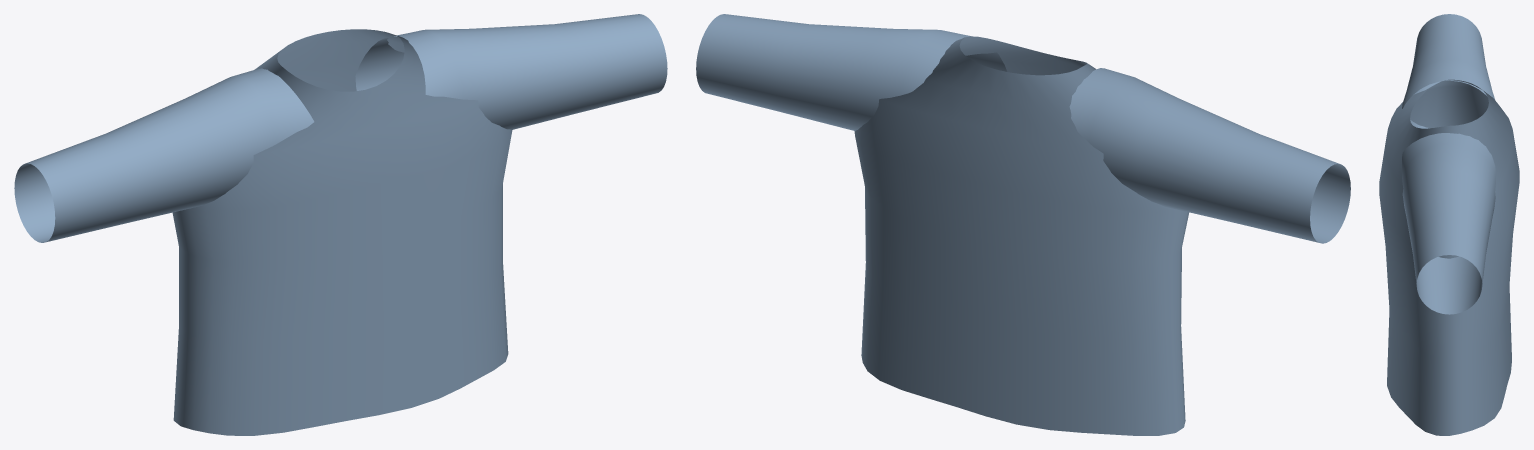
The model's file is denim-jacket.glb.
3 views of the same model, side by side, from view 1: azimuth 30°, elevation 25°; view 2: azimuth 150°, elevation 25°; view 3: azimuth 270°, elevation 25° (orthographic). The views are drawn at different scales.
Parts seen in each view (by area): view 1: Torso, SleeveLeft, SleeveRight; view 2: Torso, SleeveLeft, SleeveRight; view 3: Torso, SleeveRight, SleeveLeft.
Boxes of the visible parts, x1,y1,x2,y2 form: Torso: [172, 29, 512, 435]; SleeveLeft: [14, 68, 314, 242]; SleeveRight: [355, 14, 667, 130]; Torso: [854, 36, 1189, 435]; SleeveLeft: [1069, 68, 1350, 243]; SleeveRight: [696, 14, 1007, 130]; Torso: [1379, 79, 1519, 435]; SleeveRight: [1402, 133, 1495, 314]; SleeveLeft: [1402, 14, 1494, 128].
Bounding box in the file's own units: 2.6 × 1.36 × 0.64.
